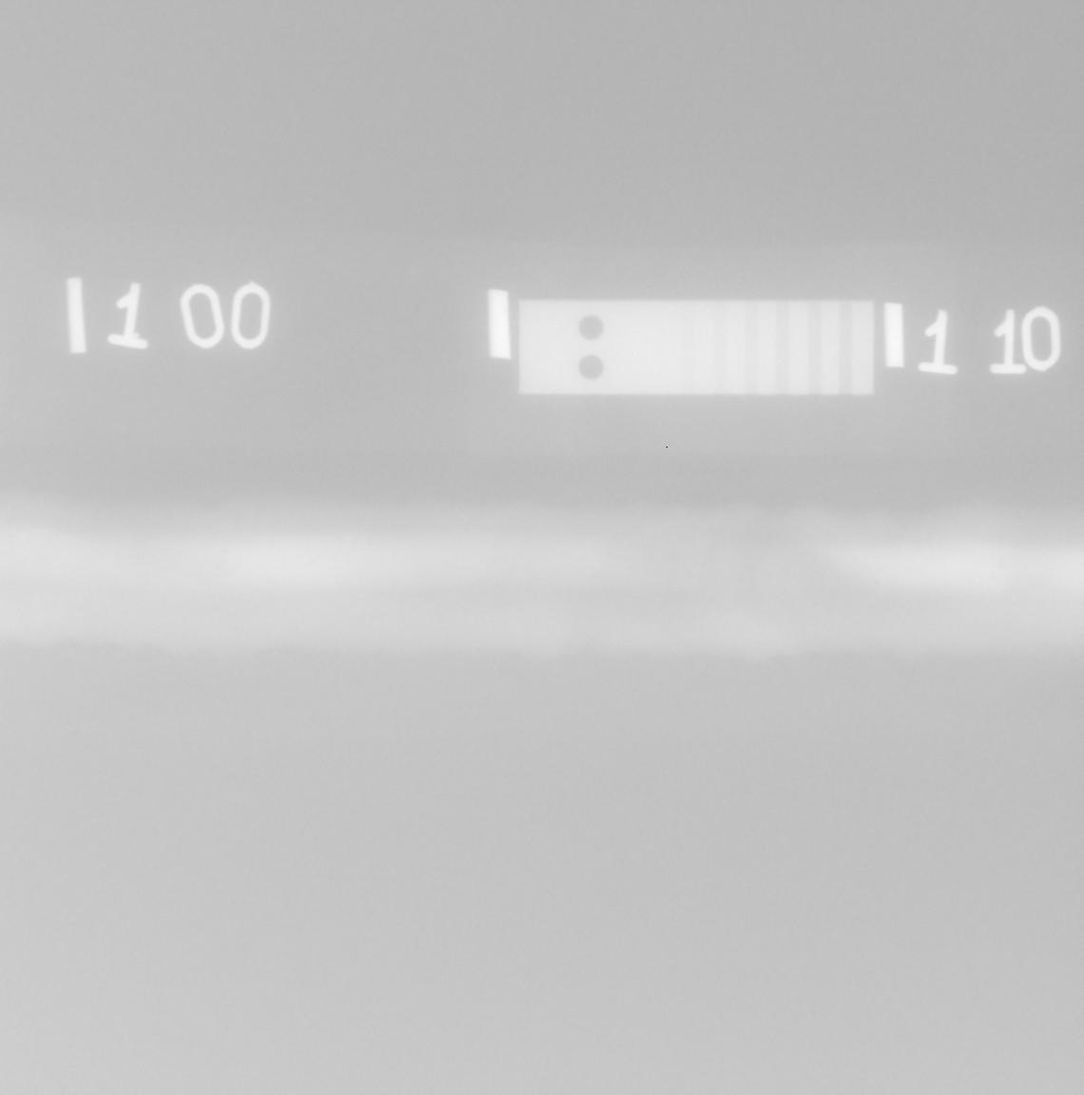Inclusion: (216, 549, 229, 569), (871, 580, 880, 584), (203, 558, 207, 562)
Reference Standard 2: (520, 298, 875, 395)
